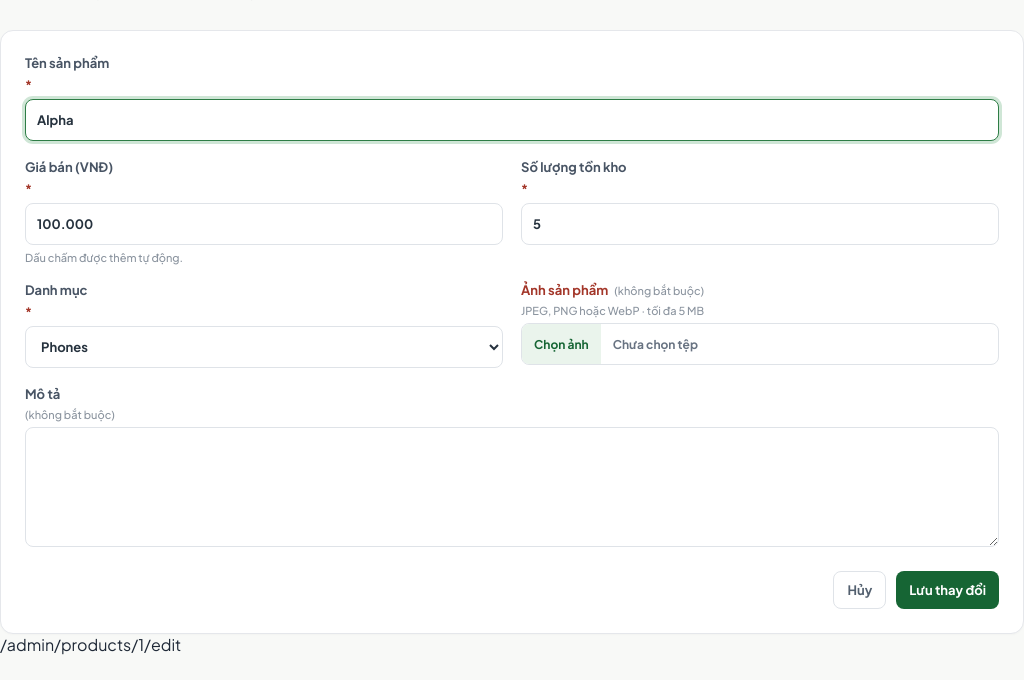
ProductFormPage › shows an error message and re-enables the submit button when saving fails
Expected: the field labelled "Tên sản phẩm *" is shown, 25,99 -> 999,141
Click the button "Lưu thay đổi" at (948, 590), box 896,571 -> 999,609
(page scrolled)
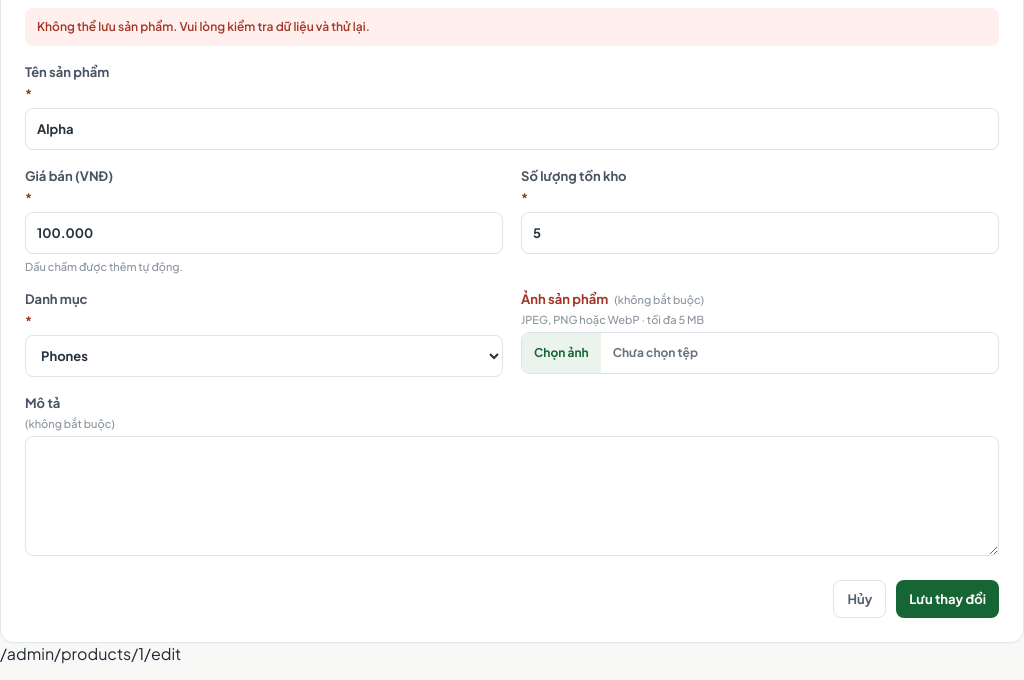
Expected: the button "Lưu thay đổi" is enabled, 896,580 -> 999,618
Now the message shows "Không thể lưu sản phẩm", box 37,19 -> 370,34
